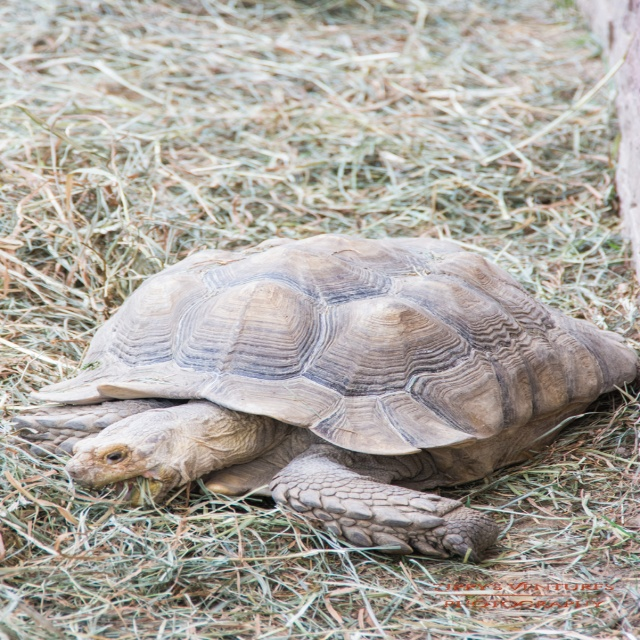Tortoise: (10, 235, 640, 564)
